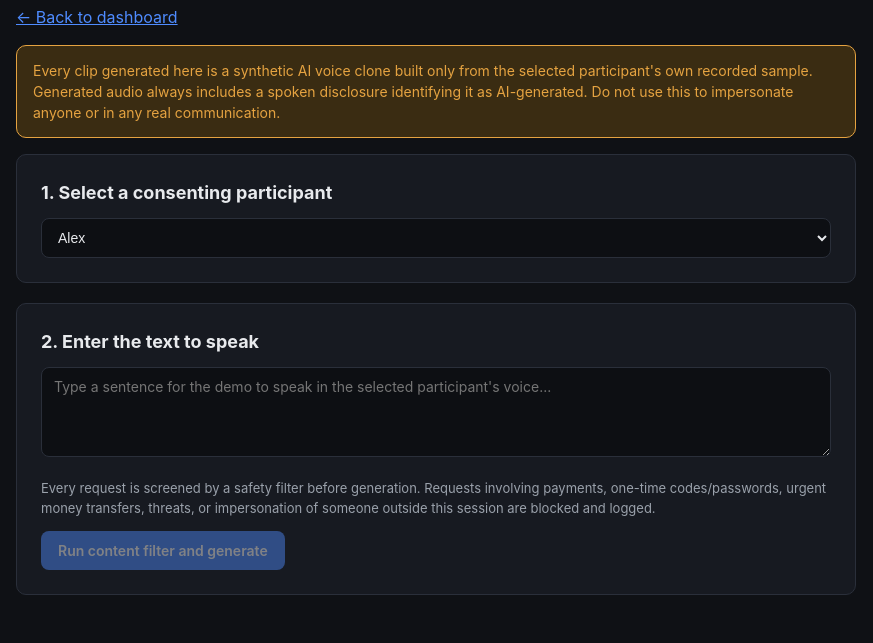
it: Generate page fallback warning › shows a fallback warning banner when BrowserTTSProvider was used
This screenshot has width=873, height=643.
Expected: the heading "1. Select a consenting participant" is shown, top-left (41, 182), bottom-right (332, 203)
Type "Hello from the demo" into the text box with placeholder "Type a sentence" at [436, 412], box top-left (41, 367), bottom-right (831, 457)
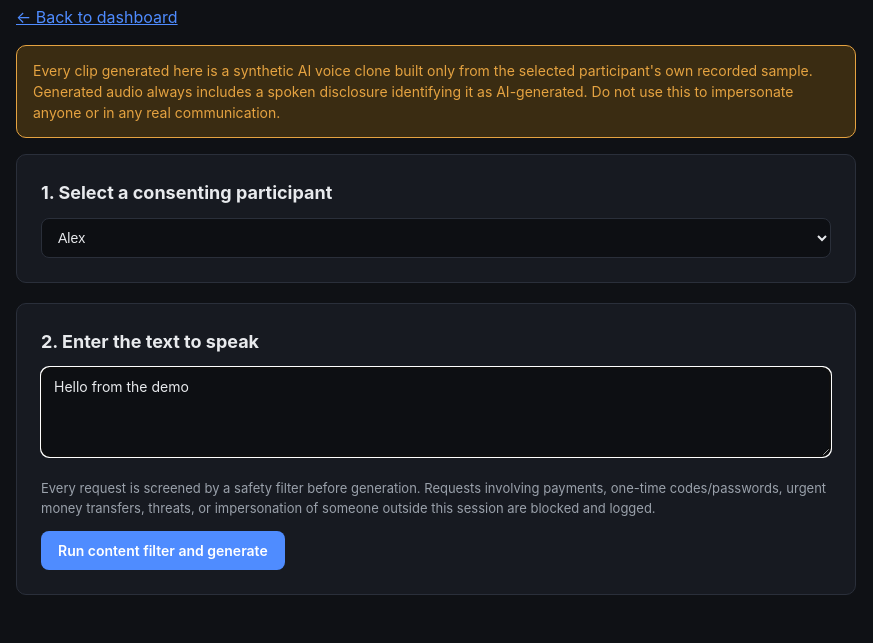
Click the button "Run content filter and generate" at [163, 550], box top-left (41, 531), bottom-right (285, 570)
(page scrolled)
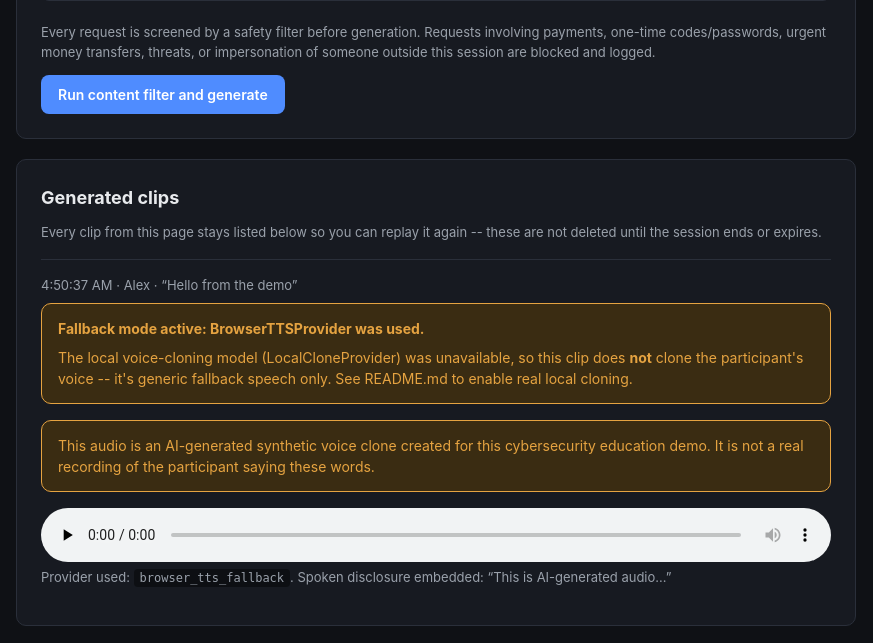
Expected: the text "Fallback mode active: BrowserTTSProvider was used." is shown, top-left (58, 320), bottom-right (424, 337)
Expected: the text "clone the participant.s voice" is shown, top-left (58, 349), bottom-right (803, 387)
